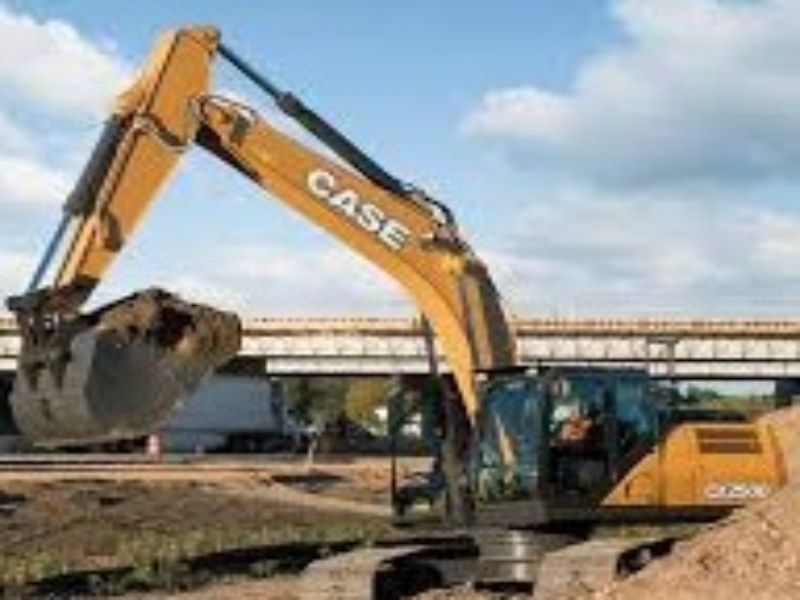wajueji: (288, 213, 791, 600)
